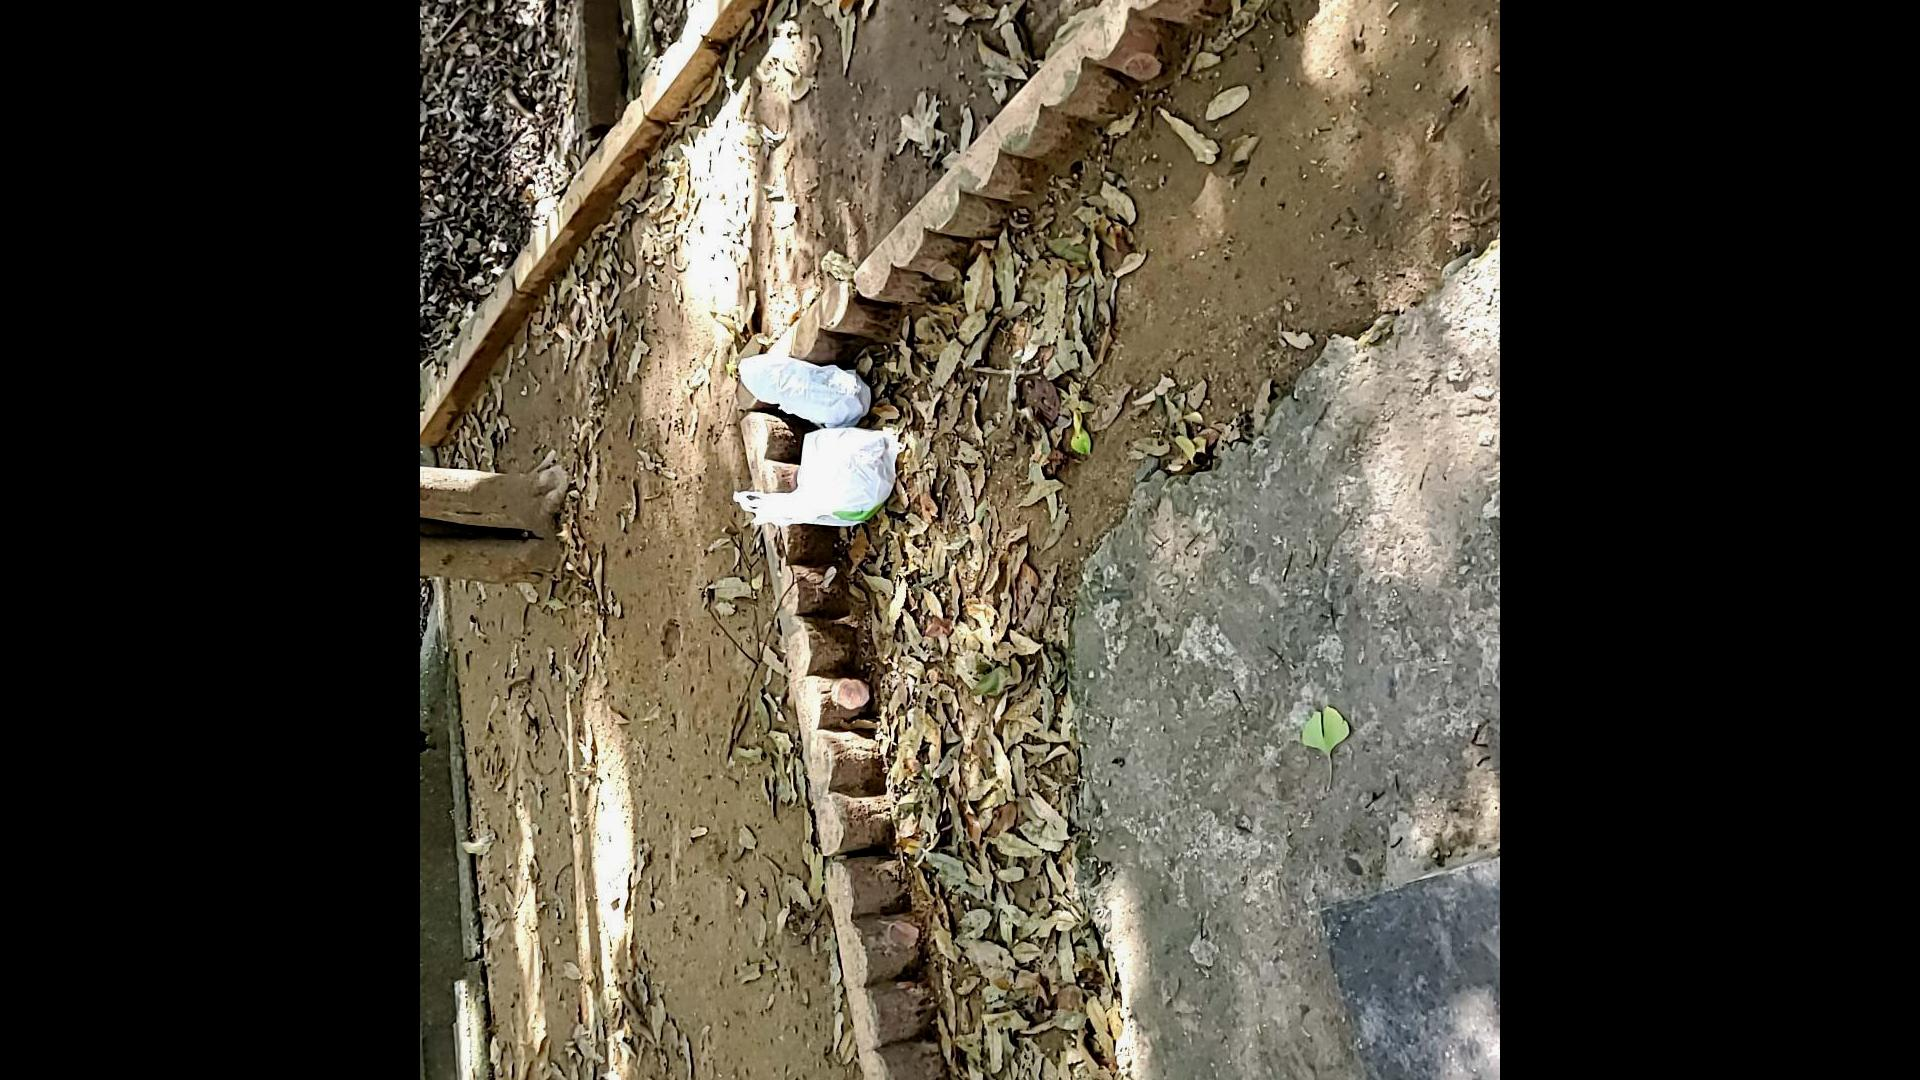white_bag: (729, 413, 907, 545), (735, 348, 878, 433)
